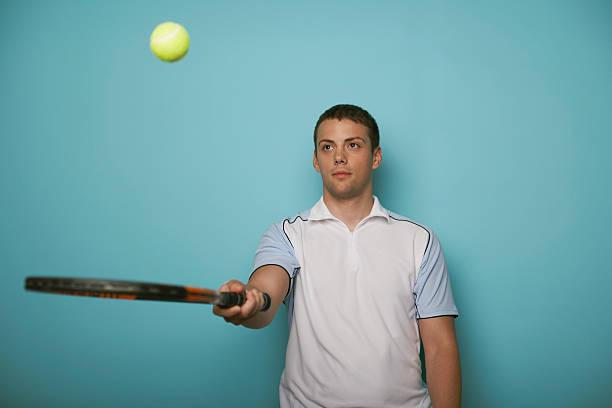ball_tennis: (151, 22, 191, 63)
